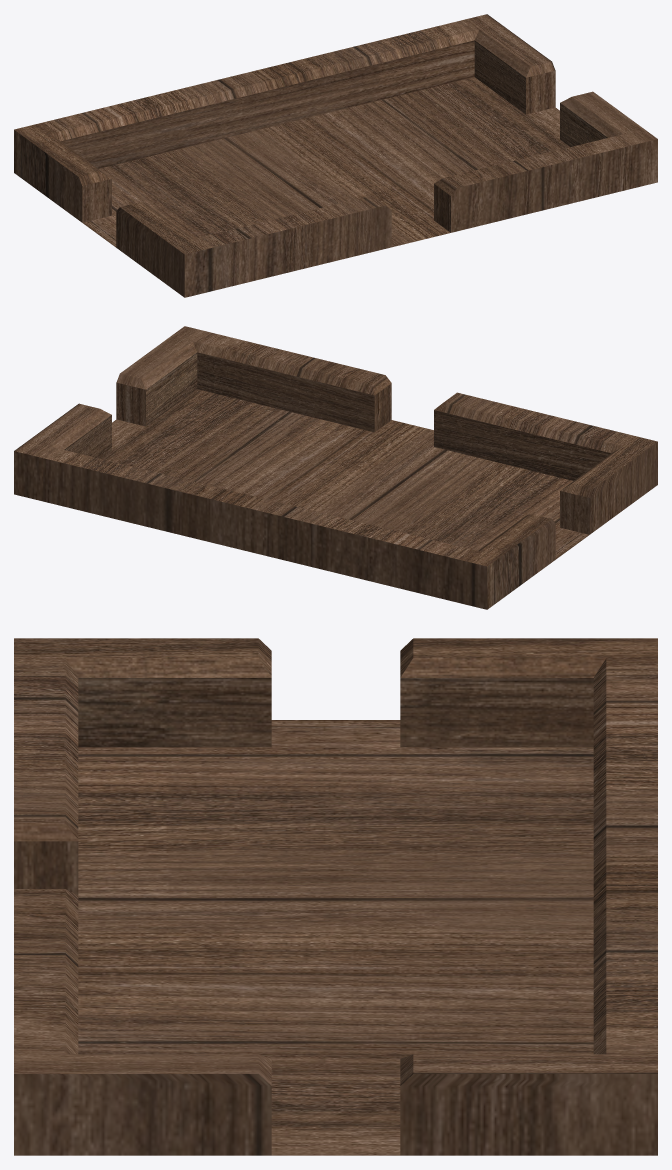
The model's file is room7.fbx.
3 renders of one model, top to bottom at view 1: azimuth 30°, elevation 25°; view 2: azimuth 150°, elevation 25°; view 3: azimuth 270°, elevation 25°, orthographic. The views are drawn at different scales.
Visible parts, largest first — view 1: Room02Mesh; view 2: Room02Mesh; view 3: Room02Mesh.
Part boxes in pixels (bbox=[...]): Room02Mesh: bbox=[14, 14, 657, 297]; Room02Mesh: bbox=[14, 326, 657, 609]; Room02Mesh: bbox=[14, 638, 657, 1155].
Size of what is drawn, in the model's own units: 80 by 7 by 50.
